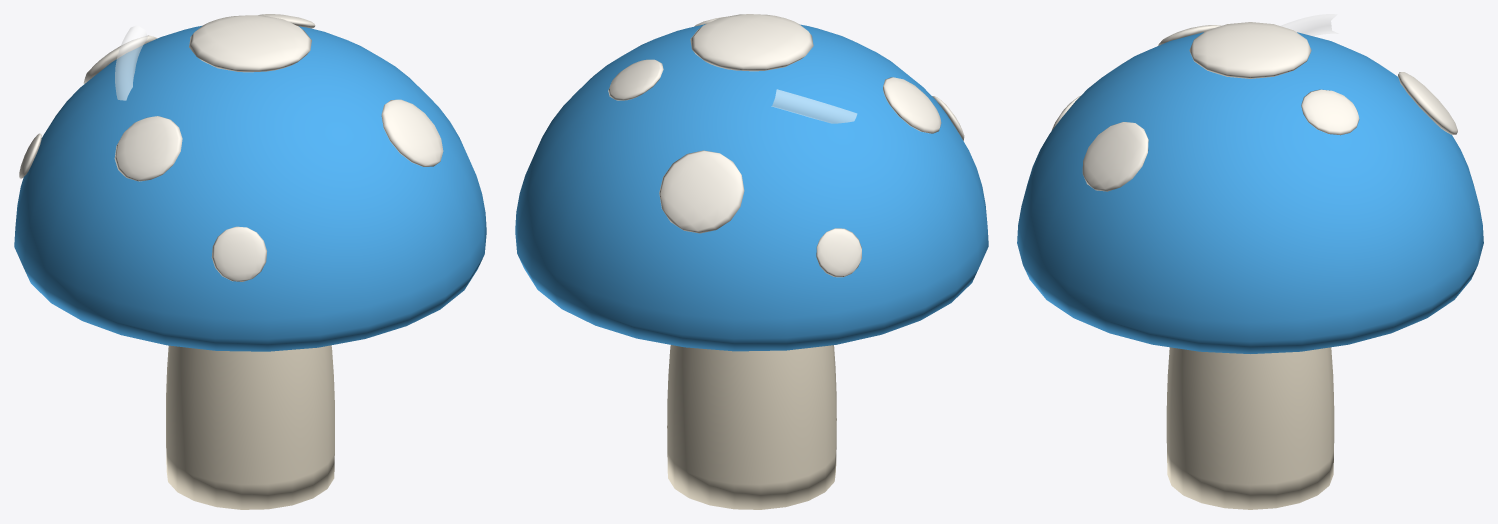
The model's file is mushroom_blue.glb.
The picture shows the model from 3 angles, left to right: view 1: azimuth 30°, elevation 25°; view 2: azimuth 150°, elevation 25°; view 3: azimuth 270°, elevation 25°; orthographic projection.
Visible parts, largest first — view 1: mushroom_blue; view 2: mushroom_blue; view 3: mushroom_blue.
Boxes of the visible parts, x1,y1,x2,y2 form: mushroom_blue: (14, 14, 486, 509); mushroom_blue: (515, 14, 988, 509); mushroom_blue: (1017, 14, 1483, 509).
Size of the model in its own units: 0.672 by 0.6927 by 0.672.
